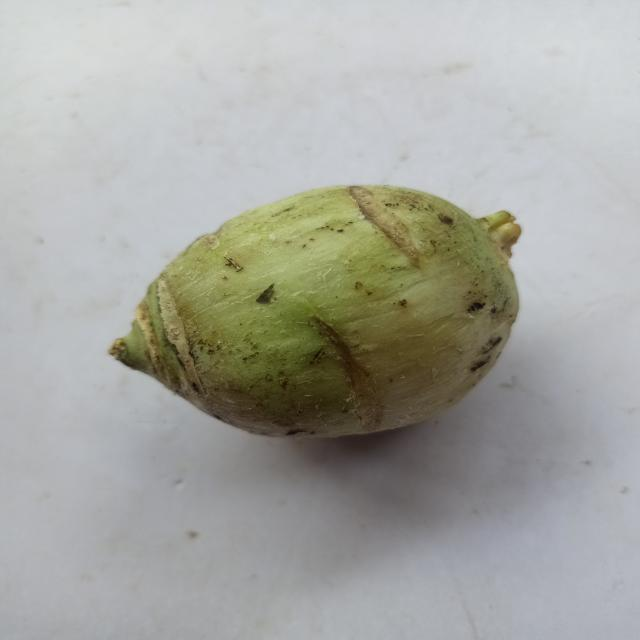Turnip: (69, 162, 562, 507)
